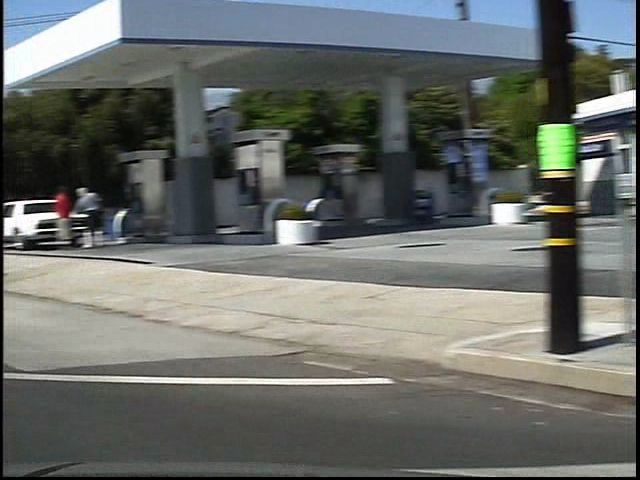person: (31, 180, 54, 249)
